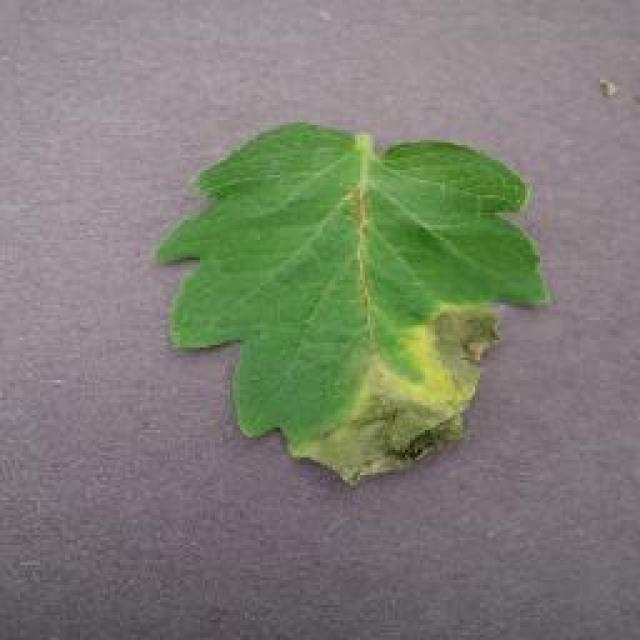Tomato Late Blight: (217, 338, 533, 525)
